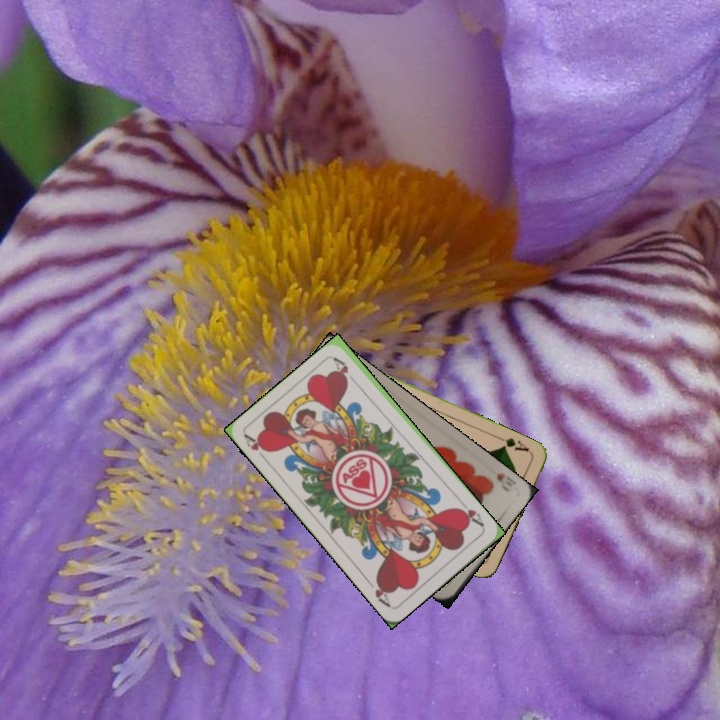GA: (495, 433, 534, 456)
H10: (492, 468, 519, 494)
HA: (240, 431, 272, 465), (454, 503, 487, 530)
